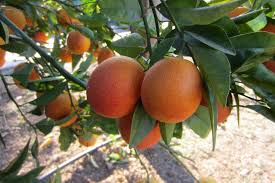orange: (142, 52, 205, 121), (86, 53, 143, 115), (119, 96, 162, 148)
